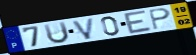0: (100, 15, 120, 36)
7: (22, 25, 41, 48)
E: (122, 9, 154, 35)
P: (147, 7, 172, 31)
U: (42, 20, 71, 45)
V: (71, 17, 96, 41)
